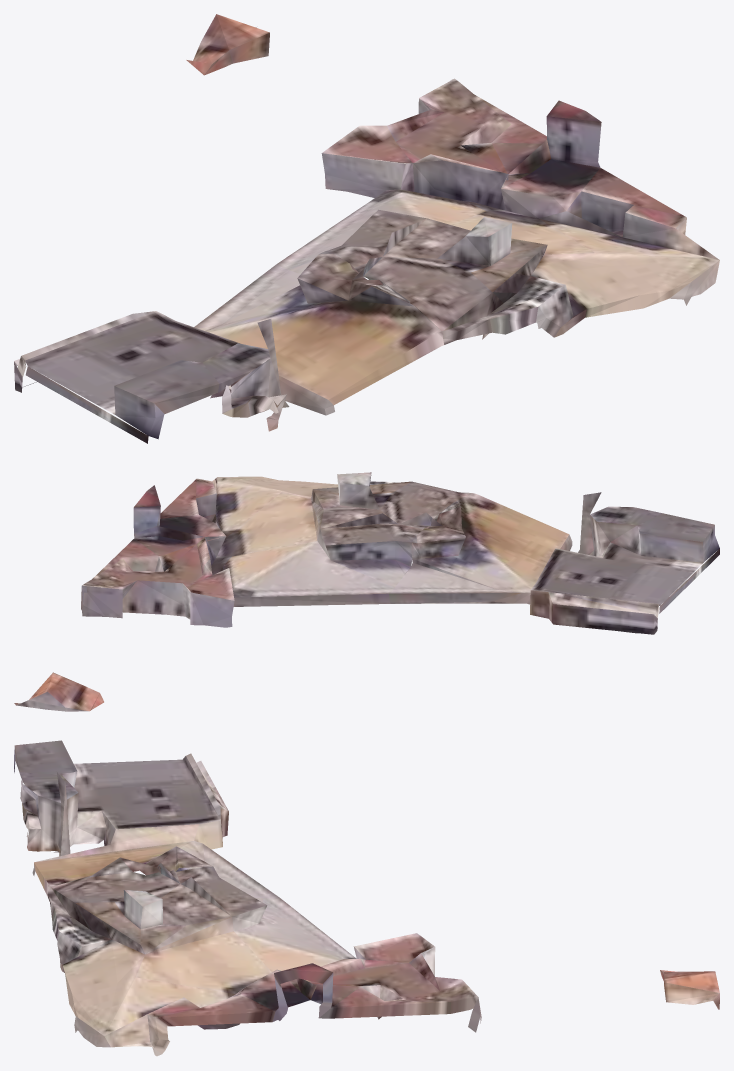
The picture shows the model from 3 angles, top to bottom: view 1: azimuth 30°, elevation 25°; view 2: azimuth 150°, elevation 25°; view 3: azimuth 270°, elevation 25°; orthographic projection. The views are drawn at different scales.
Parts seen in each view (by area): view 1: Mesh_0; view 2: Mesh_0; view 3: Mesh_0.
Boxes of the visible parts, x1=… form: Mesh_0: x1=14, y1=14, x2=719, y2=443; Mesh_0: x1=14, y1=472, x2=719, y2=711; Mesh_0: x1=14, y1=740, x2=719, y2=1056.
Bounding box in the file's own units: 59.4 × 9.1 × 67.28.
Materials: 1 (1 with a texture image).
